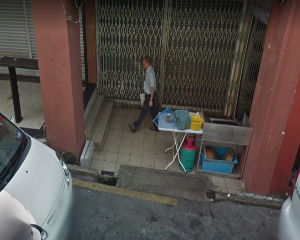stand: (135, 56, 163, 143)
